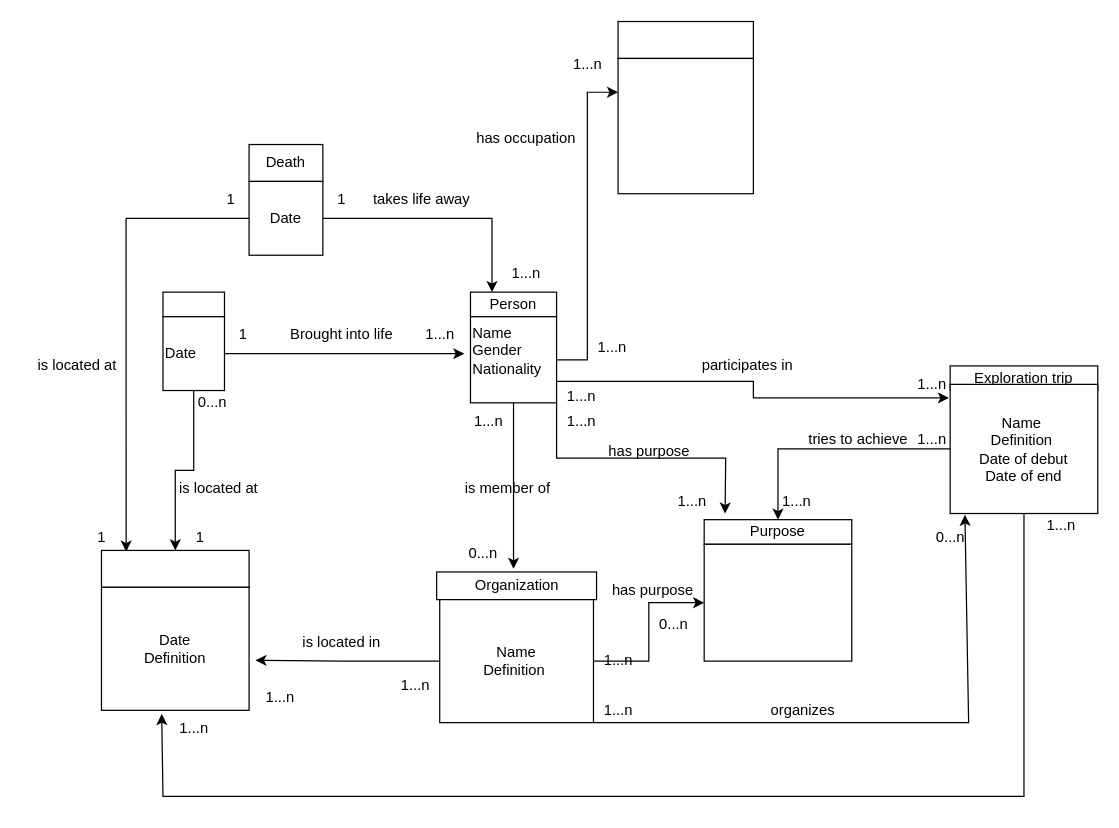
The diagram is 1119 pixels wide and 828 high, and some of its shapes have lost their labels. The shapes that lost their labels are listed below. From the top down, each one's centre as x and y in pixels, then its label:
At pixel 685 39: "Occupation".
At pixel 685 125: "Name Definiton".
At pixel 193 304: "Birth".
At pixel 174 568: "Geographical place".
At pixel 777 602: "Definition Type".
